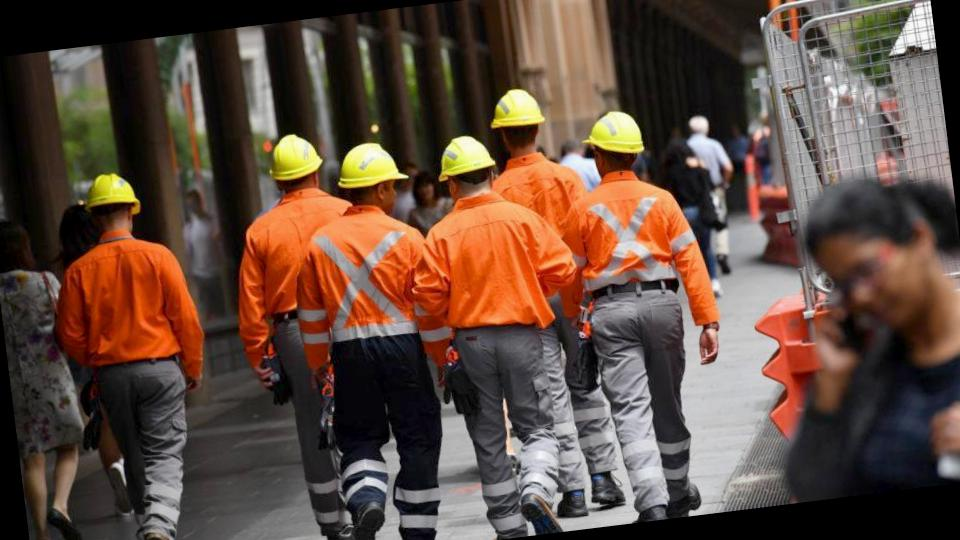helmet: (576, 102, 654, 166), (430, 128, 502, 193), (72, 168, 147, 228), (333, 138, 411, 195), (260, 128, 326, 193), (476, 89, 548, 139)
person: (554, 98, 742, 527), (406, 125, 596, 540), (293, 133, 471, 540), (47, 160, 235, 540)
